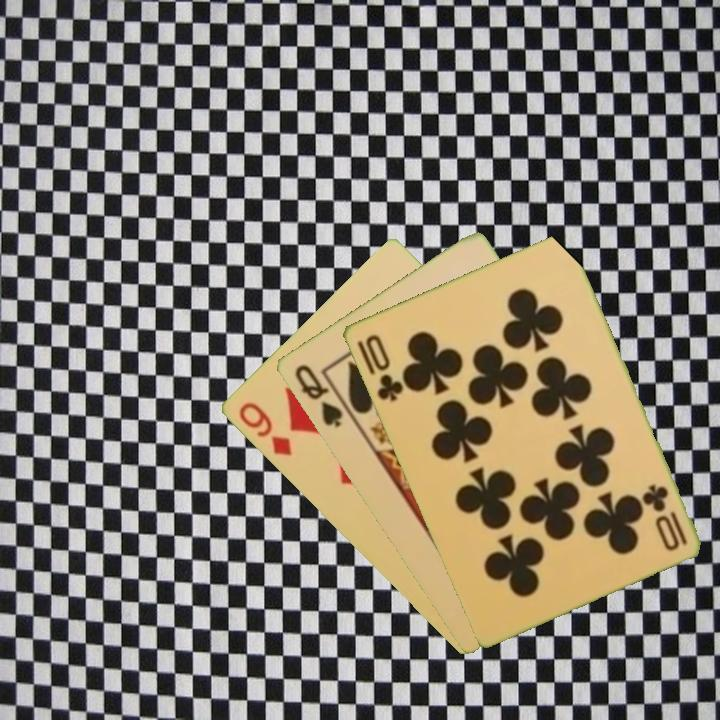10c: (640, 480, 690, 554), (361, 330, 406, 404)
9d: (235, 398, 295, 459)
Qs: (290, 360, 345, 431)
